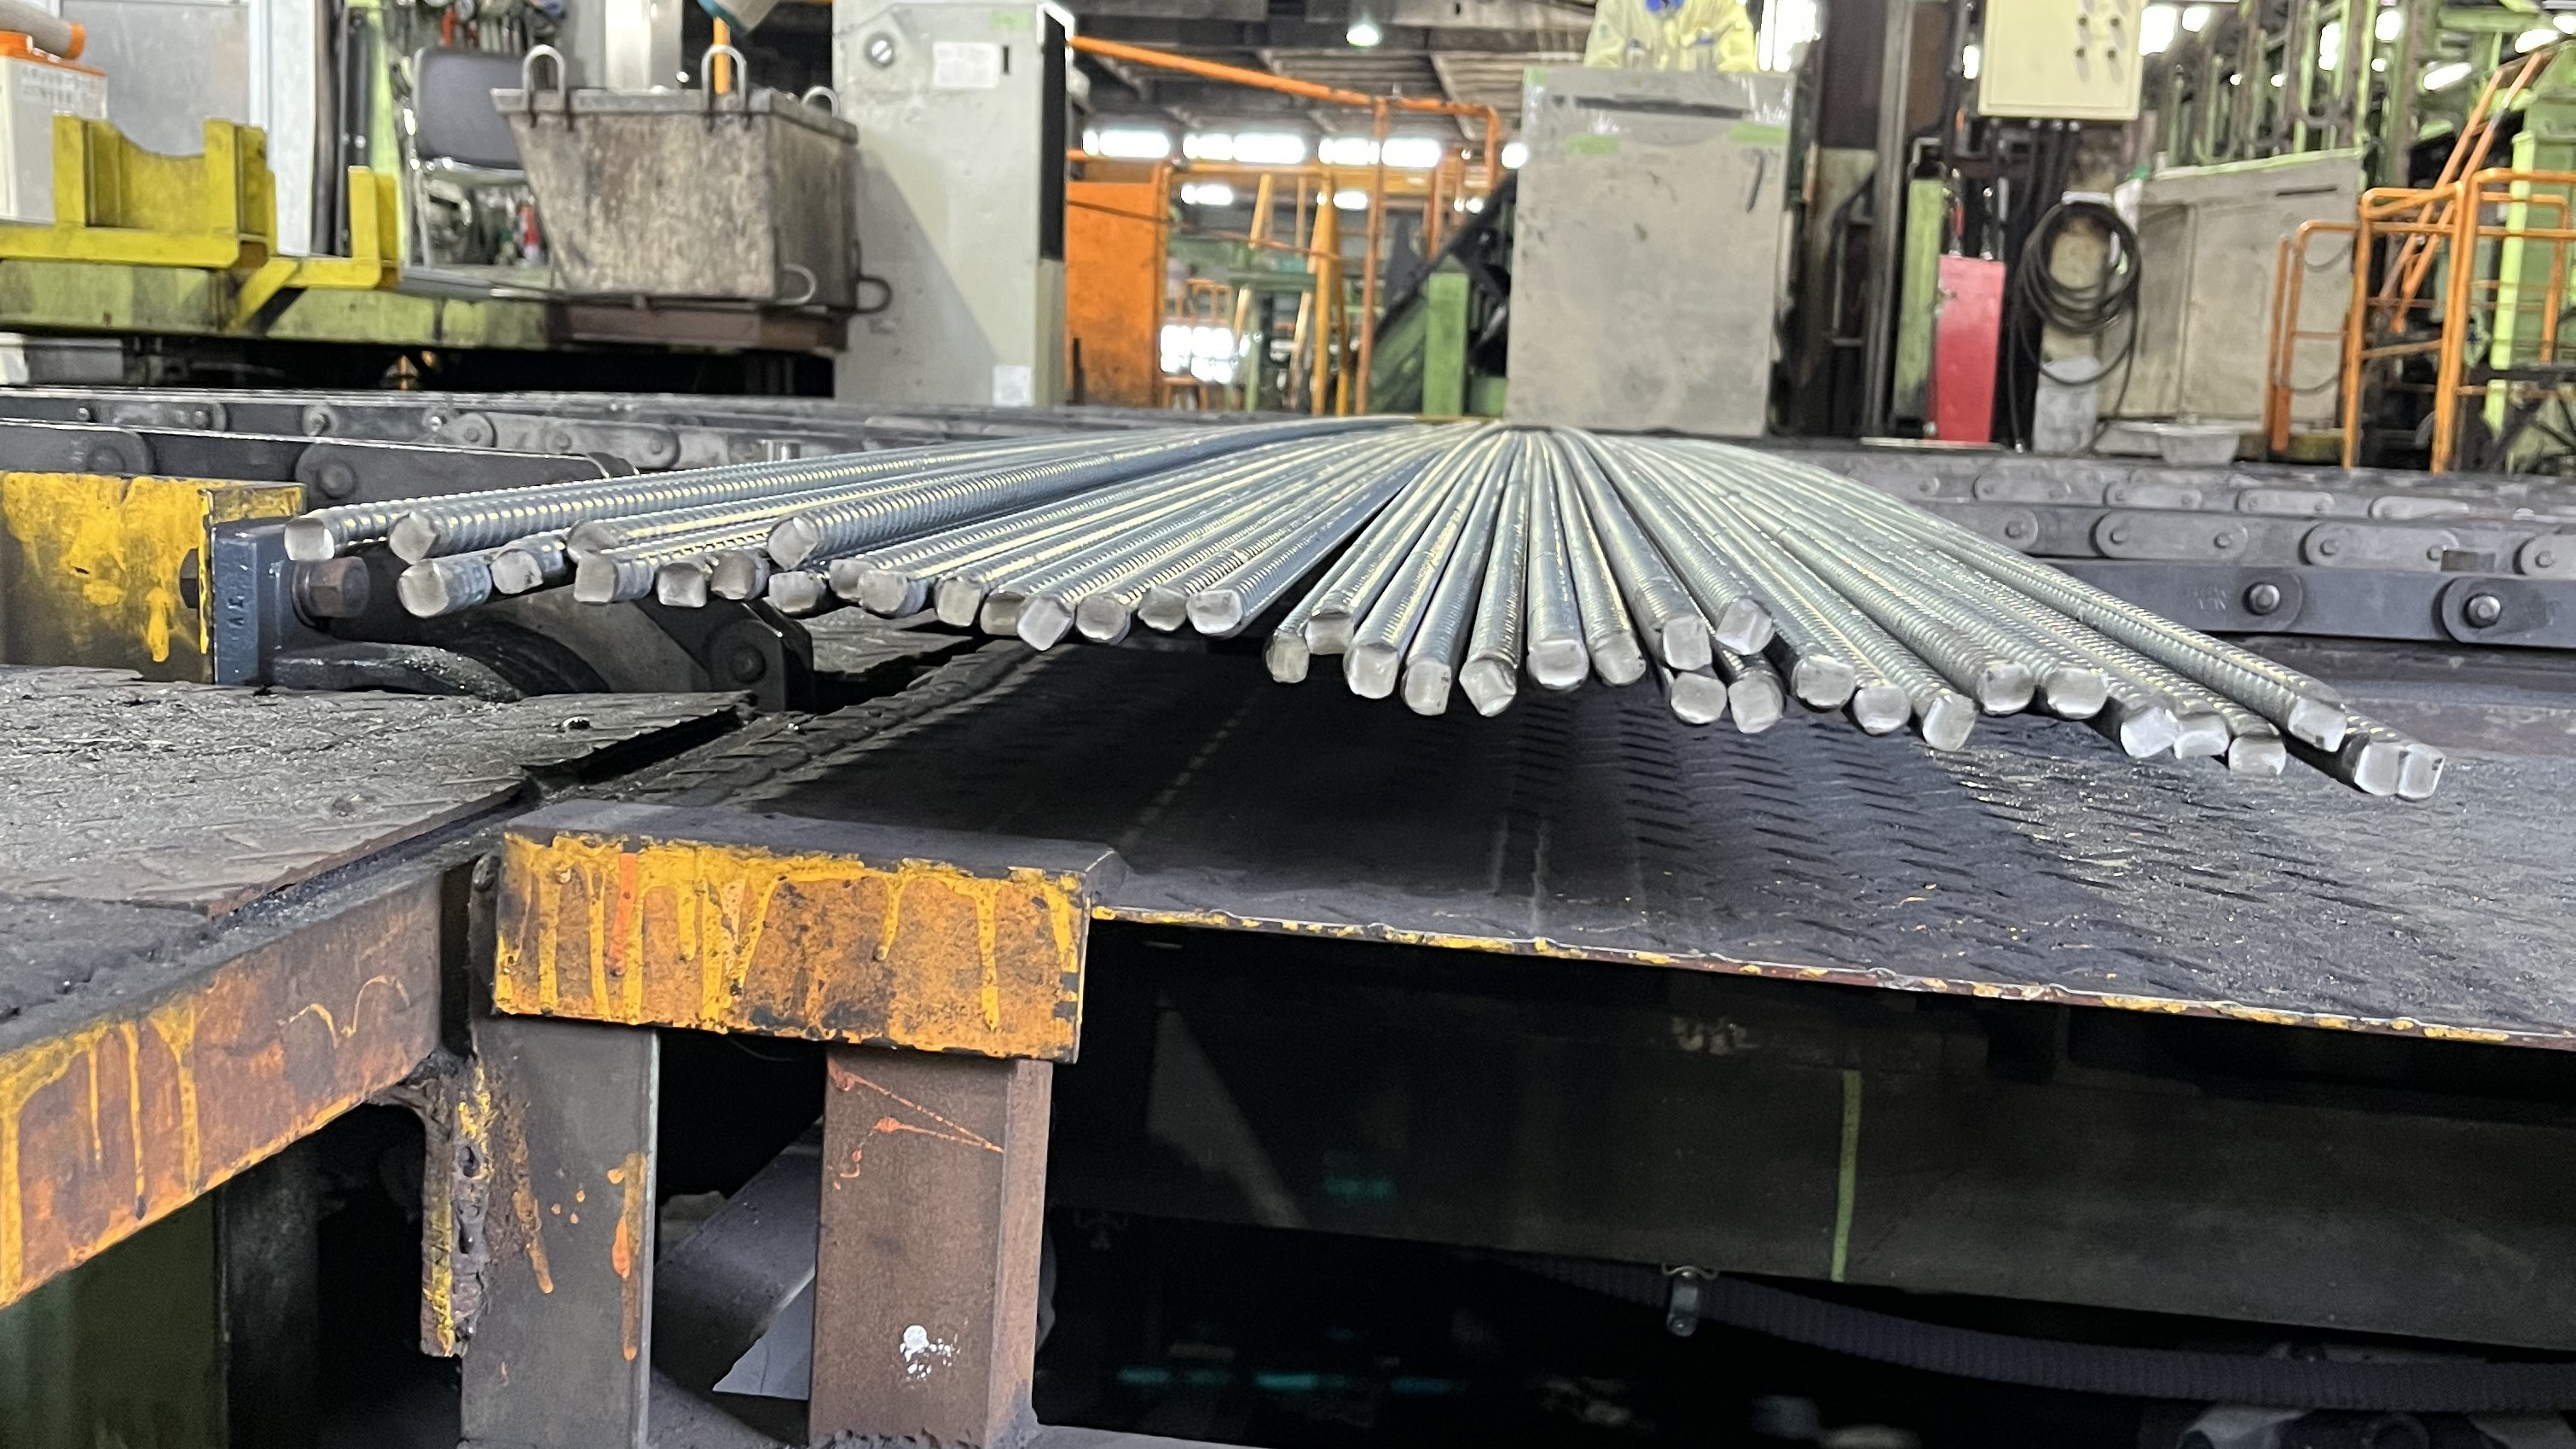rod: (1713, 594, 1778, 658), (1523, 635, 1591, 692), (1727, 671, 1785, 734), (1920, 688, 1978, 752), (2284, 695, 2348, 754), (1792, 655, 1858, 711), (1458, 656, 1518, 717), (393, 559, 451, 619), (1014, 593, 1072, 653), (1668, 671, 1729, 727), (2047, 667, 2111, 720), (1591, 630, 1647, 688), (1851, 679, 1909, 734), (2120, 704, 2178, 759), (764, 513, 817, 573), (1345, 640, 1398, 701), (1978, 663, 2038, 717), (384, 511, 441, 566), (1660, 614, 1713, 672), (2351, 740, 2404, 798), (1401, 656, 1451, 717), (1184, 589, 1246, 637), (2399, 741, 2449, 800), (1076, 589, 1129, 642), (709, 548, 761, 603), (2173, 709, 2229, 759), (2226, 734, 2288, 778), (855, 566, 909, 616), (932, 573, 982, 628), (1134, 584, 1189, 633), (570, 552, 617, 609), (653, 561, 709, 609), (488, 548, 543, 596), (764, 570, 821, 616), (564, 518, 616, 566), (281, 517, 334, 563), (1302, 610, 1353, 656), (1267, 630, 1309, 685), (826, 556, 876, 602), (978, 589, 1023, 637)
